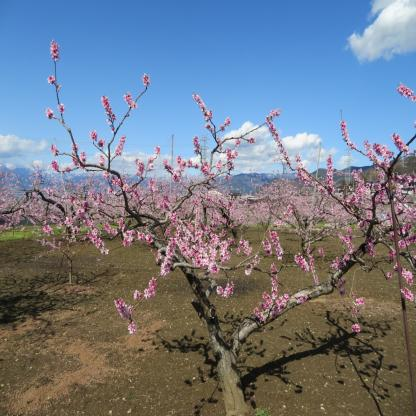Momo: (1, 38, 416, 335), (159, 167, 268, 229), (266, 175, 384, 231), (78, 163, 166, 229), (1, 164, 76, 230)
